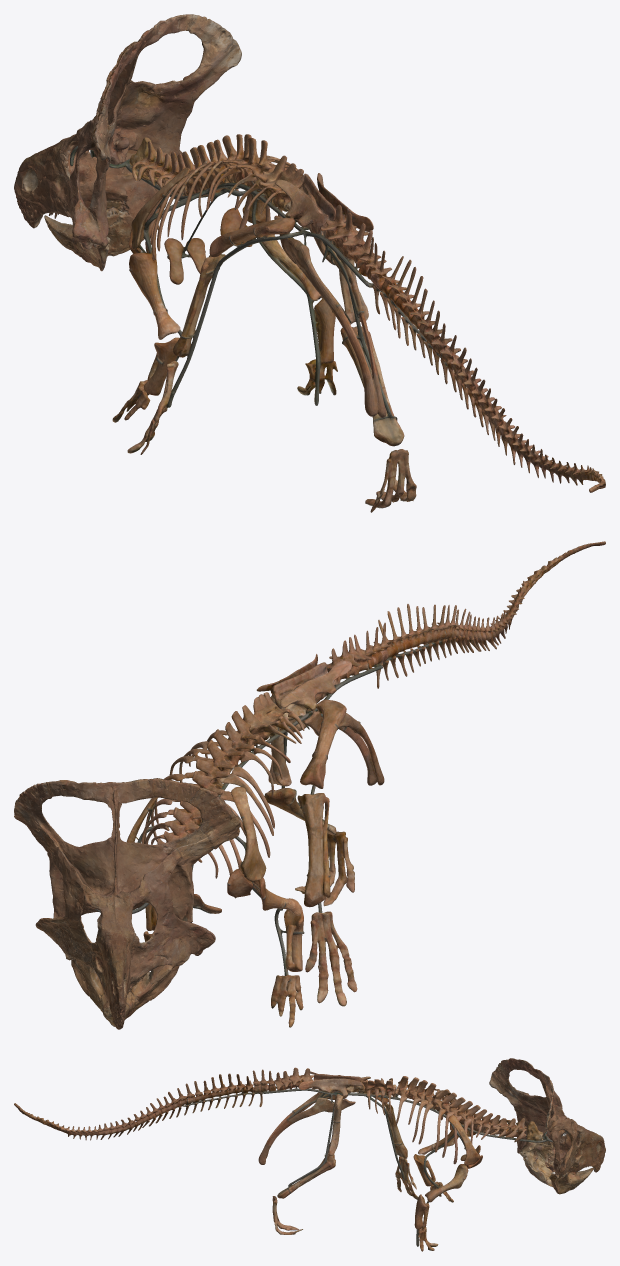
File: protoceratops.glb
3 renders of one model, top to bottom at view 1: azimuth 30°, elevation 25°; view 2: azimuth 150°, elevation 25°; view 3: azimuth 270°, elevation 25°, orthographic. The views are drawn at different scales.
Parts seen in each view (by area): view 1: Object_9, Object_10, Object_12, Object_11, Object_13, Object_3, Object_7, Object_8, Object_2, Object_5, Object_6, Object_4; view 2: Object_9, Object_5, Object_10, Object_3, Object_11, Object_8, Object_12, Object_6, Object_2, Object_4, Object_13, Object_7; view 3: Object_9, Object_8, Object_10, Object_12, Object_11, Object_7, Object_3, Object_13, Object_4, Object_2, Object_5, Object_6.
Boxes of the visible parts, x1,y1,x2,y2 form: Object_9: (127,134,447,512); Object_10: (73,142,434,511); Object_12: (92,149,578,498); Object_11: (129,134,605,490); Object_13: (70,135,602,501); Object_3: (14,14,203,267); Object_7: (90,138,596,500); Object_8: (112,135,603,501); Object_2: (28,21,198,256); Object_5: (18,51,185,271); Object_6: (17,14,241,229); Object_4: (53,80,182,255); Object_9: (126,611,441,1006); Object_5: (49,779,240,1017); Object_10: (94,608,432,1027); Object_3: (41,778,215,1026); Object_11: (129,546,579,1014); Object_8: (132,542,604,1027); Object_12: (134,586,524,1007); Object_6: (14,782,194,1029); Object_2: (52,779,202,1029); Object_4: (35,816,237,1025); Object_13: (127,541,605,1025); Object_7: (136,543,605,1016); Object_9: (182,1067,479,1228); Object_8: (29,1070,565,1249); Object_10: (203,1068,566,1231); Object_12: (62,1071,562,1230); Object_11: (15,1075,544,1251); Object_7: (14,1068,529,1242); Object_3: (490,1058,600,1175); Object_13: (14,1071,547,1250); Object_4: (491,1061,598,1193); Object_2: (517,1064,596,1194); Object_5: (489,1059,592,1191); Object_6: (515,1082,605,1172).
Size of the model in its own units: 511 by 621 by 2051.
Materials: 2 (2 with a texture image).
